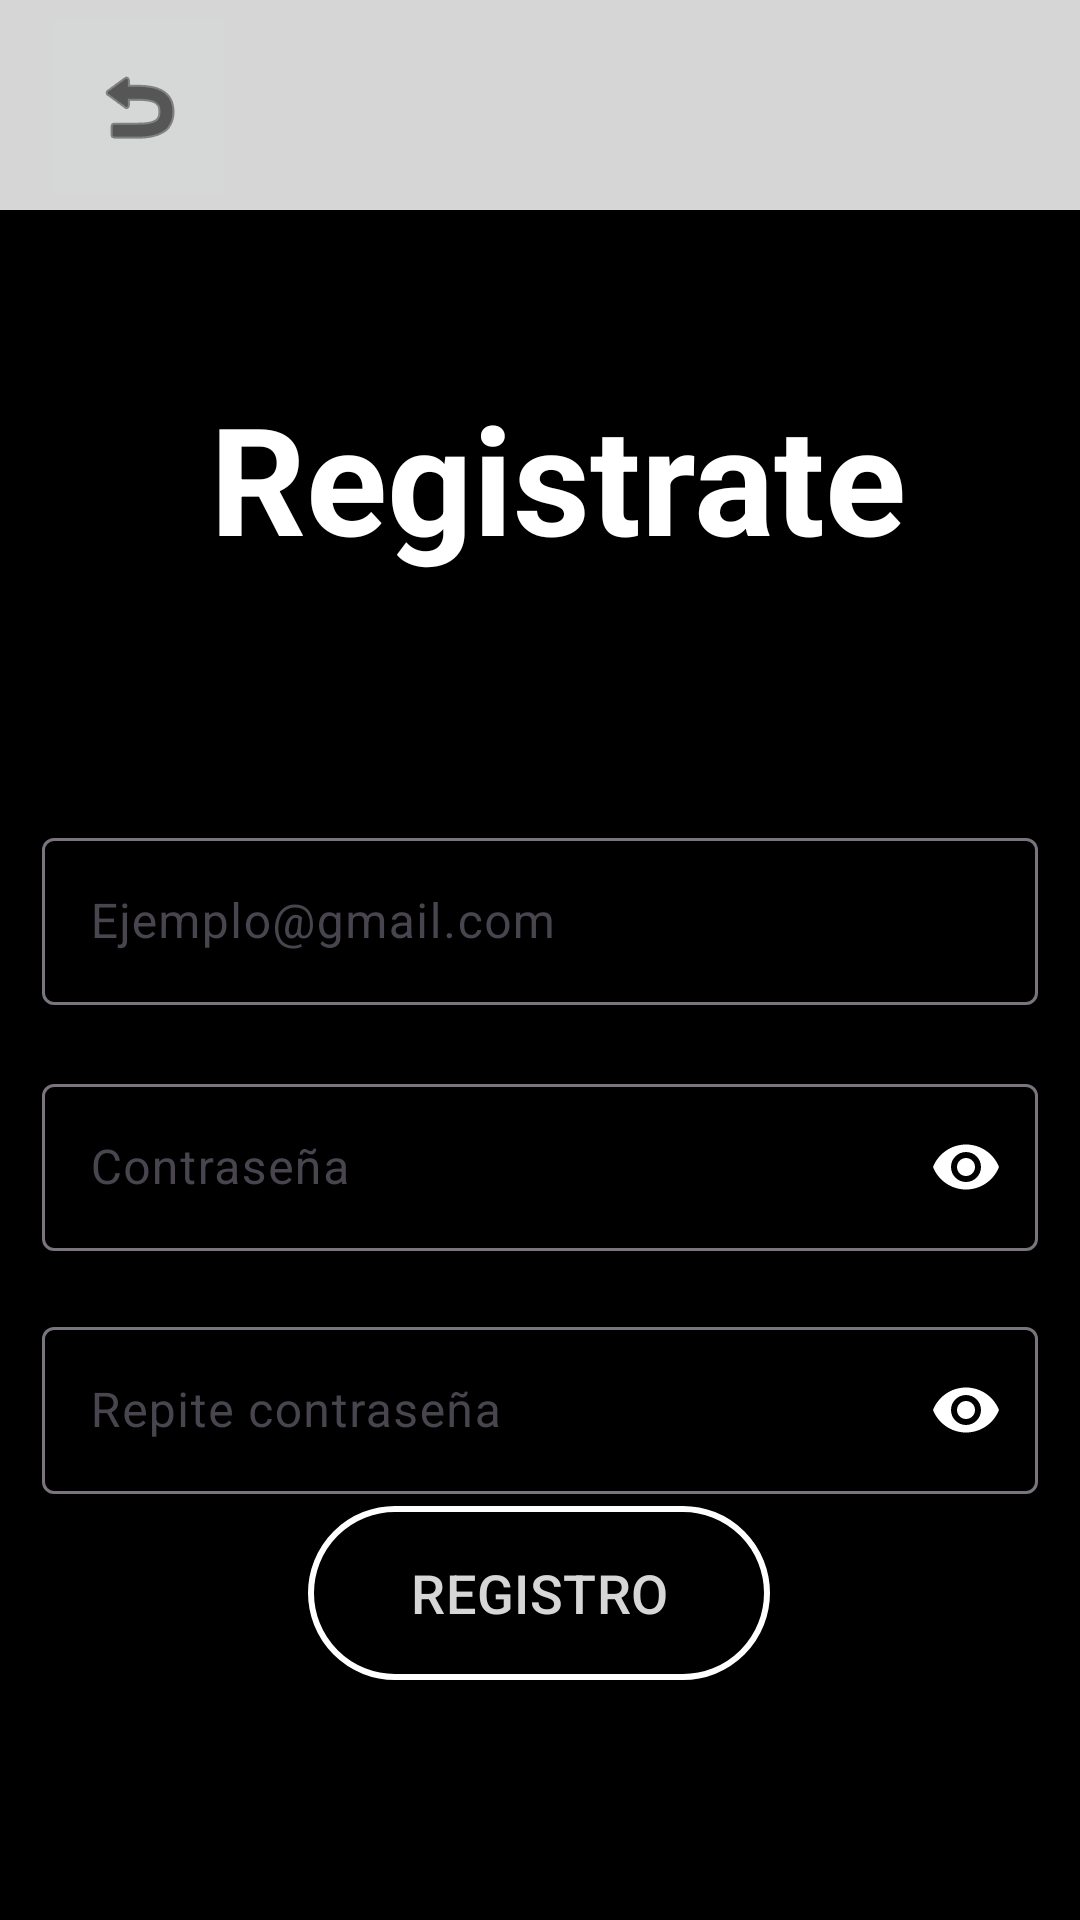

Point at icon controls on the screen. Image size 1080 x 1920, points as (x=x, y=y).
VolverAtrás Icono: (x=140, y=107)
